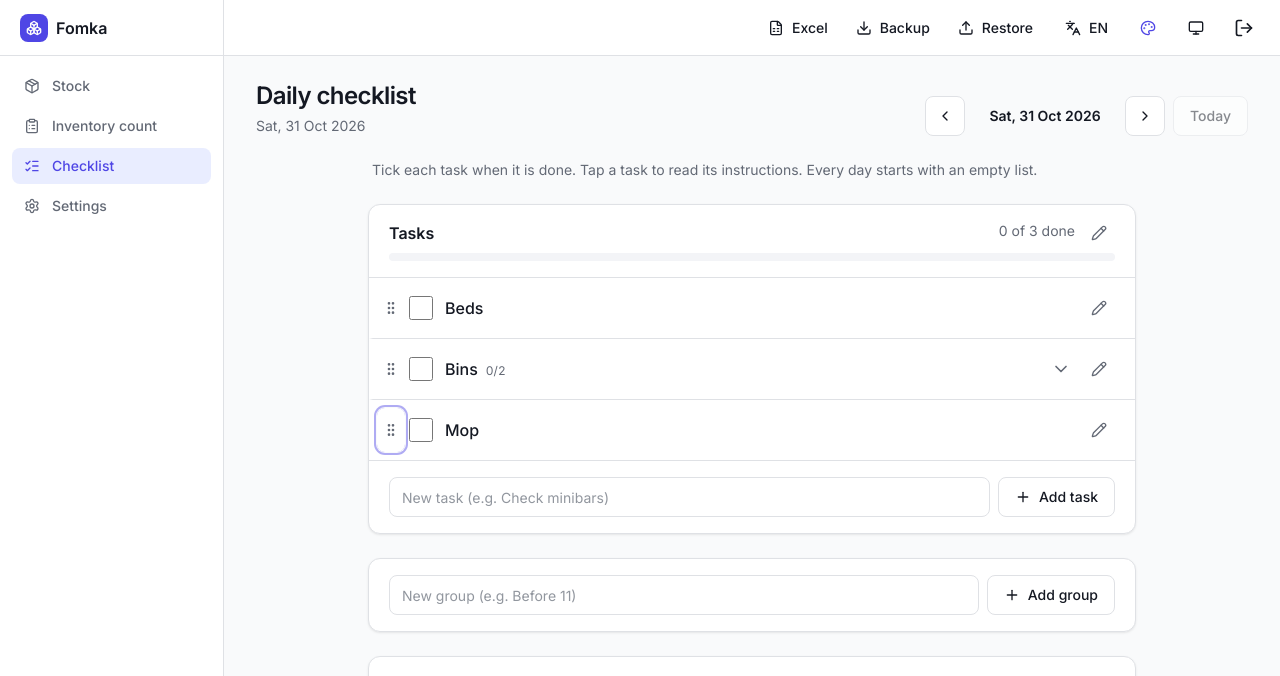
checklist › moves a task with the arrow keys on its grip, and ticks checklist lines
The width and height of the screenshot is (1280, 676).
Press Arrowup
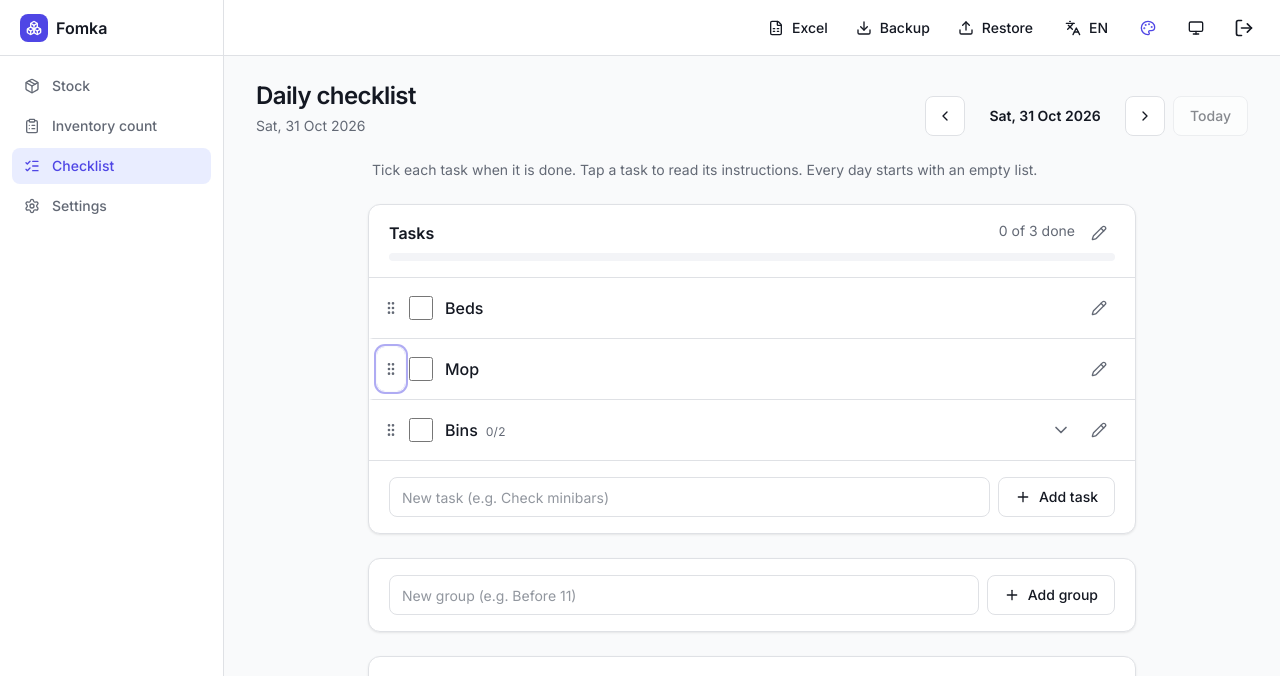
Expected: the text "0/2" is shown, x1=486 y1=424 x2=506 y2=440
Click the button "Bins 0/2": (461, 430) x1=445 y1=408 x2=1071 y2=452
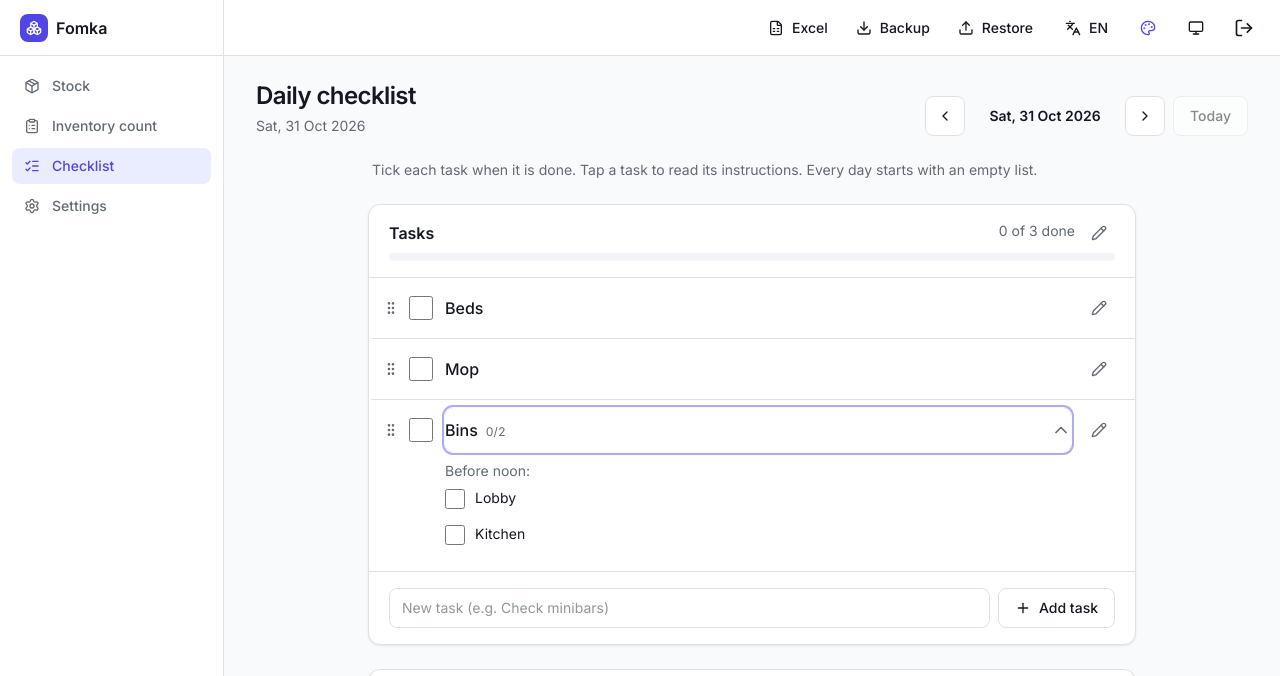
Click the checkbox labelled "Lobby": (455, 499) x1=445 y1=489 x2=465 y2=509
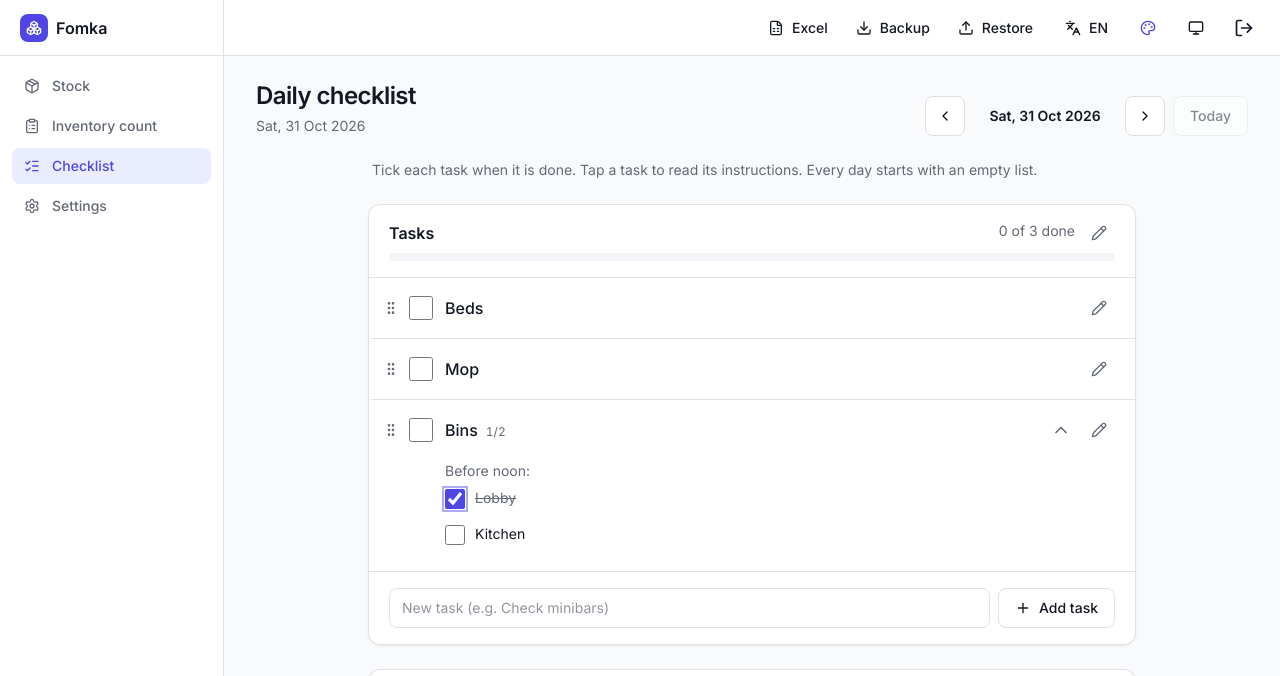
Expected: the checkbox named "Bins" is not checked, x1=409 y1=418 x2=433 y2=442
Expected: the checkbox labelled "Lobby" is checked, x1=445 y1=489 x2=465 y2=509
Expected: the text "1/2" is shown, x1=486 y1=424 x2=506 y2=440
